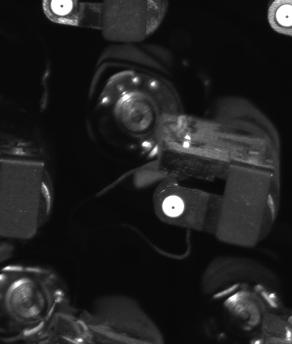fiber: (158, 189, 189, 225), (271, 2, 292, 32), (46, 1, 78, 19)
